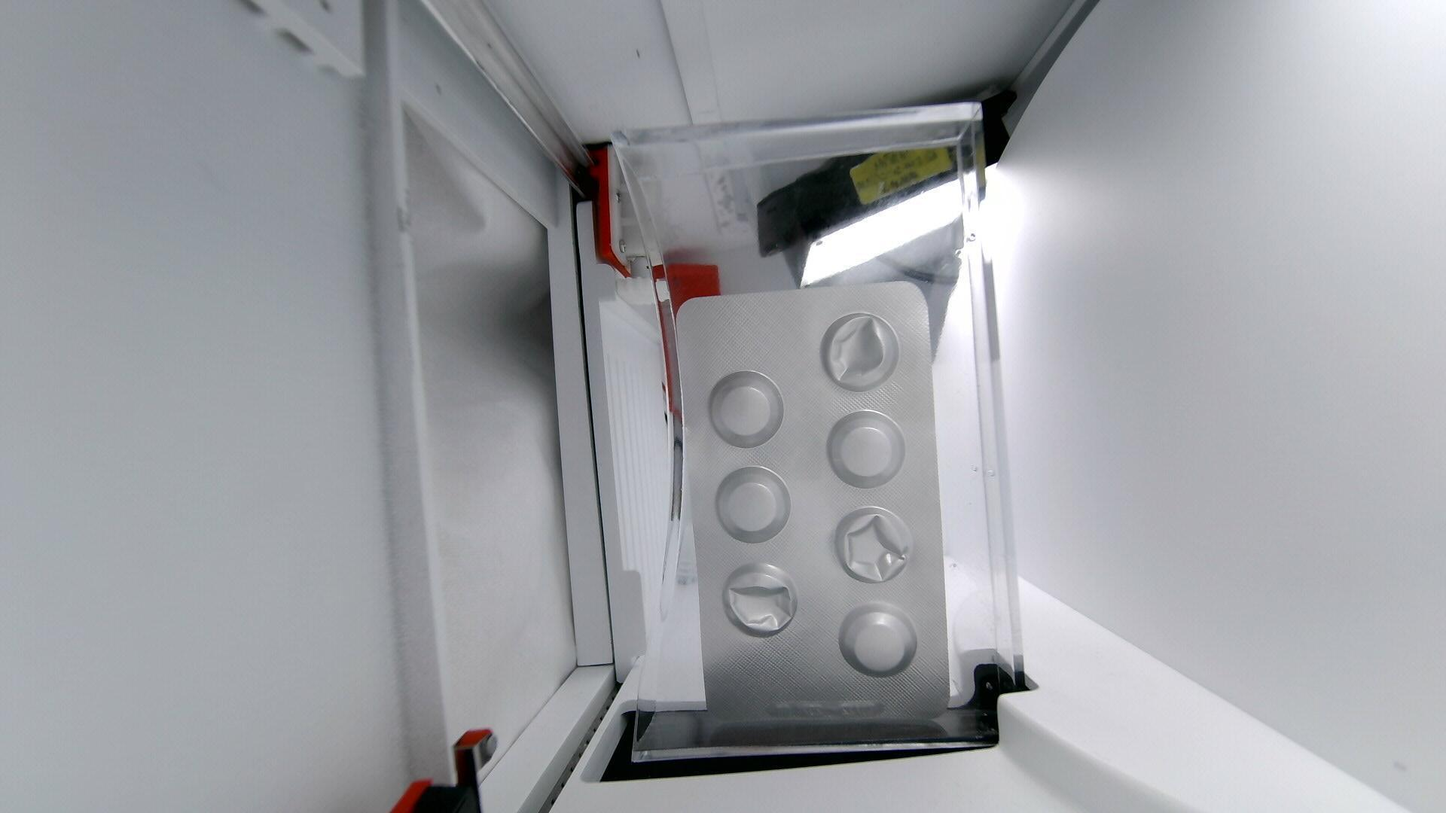Light Front: (677, 282, 959, 745)
No Pill Front: (820, 313, 899, 391), (836, 507, 912, 583), (723, 564, 797, 636)
Pill Front: (828, 411, 905, 487), (839, 604, 917, 677), (708, 371, 782, 447), (716, 467, 790, 543)
